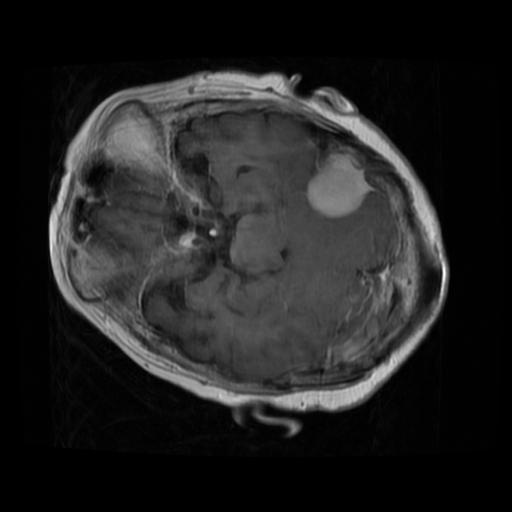meningioma: (306, 153, 369, 217)
